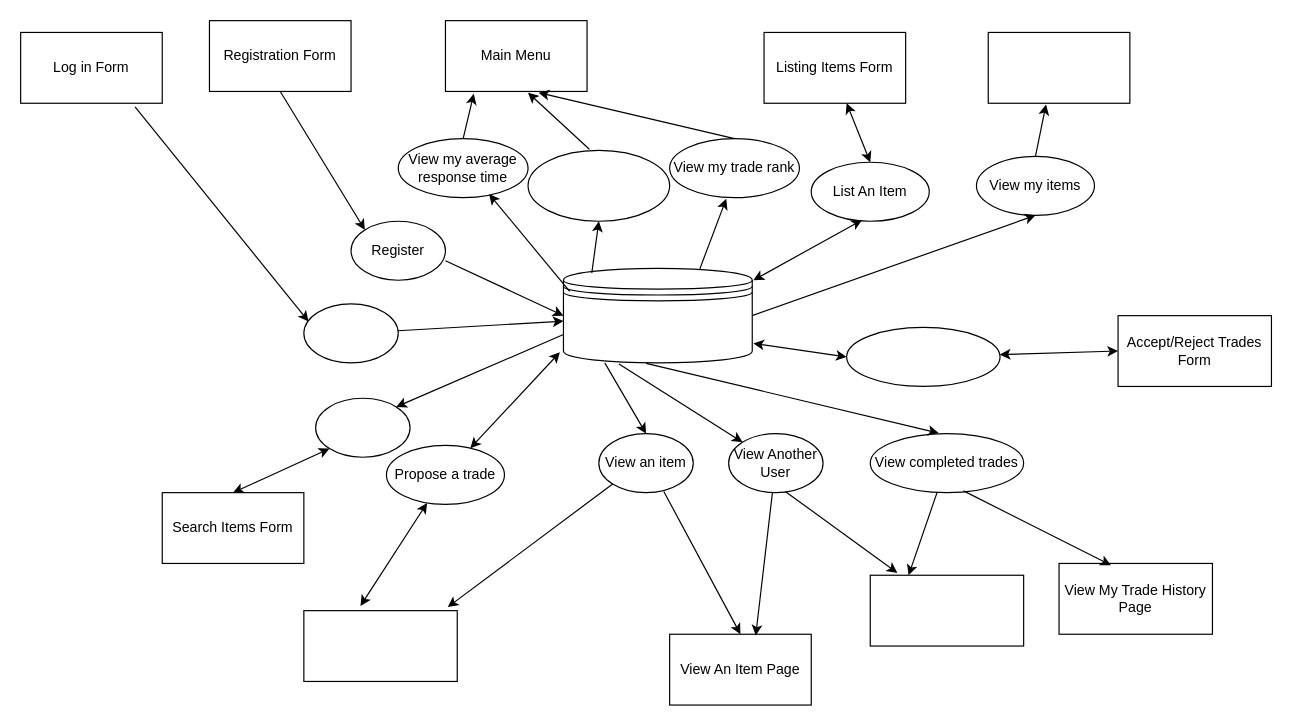
Image size: 1292x726. Some labels were removed from this diagram. Here are the shapes that lost their labels. From the top down, the centre of each, then its label:
pixel 1058 67: View My Items Page
pixel 598 185: View number of pending trades proposed to me
pixel 350 333: Log In
pixel 657 315: Database
pixel 922 356: Accept/Reject a trade
pixel 362 427: Search items
pixel 946 610: Trade detail page
pixel 380 645: Propose A Trade Form
